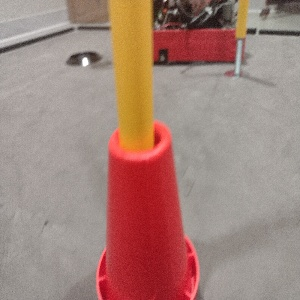Red_1: (89, 114, 205, 299)
